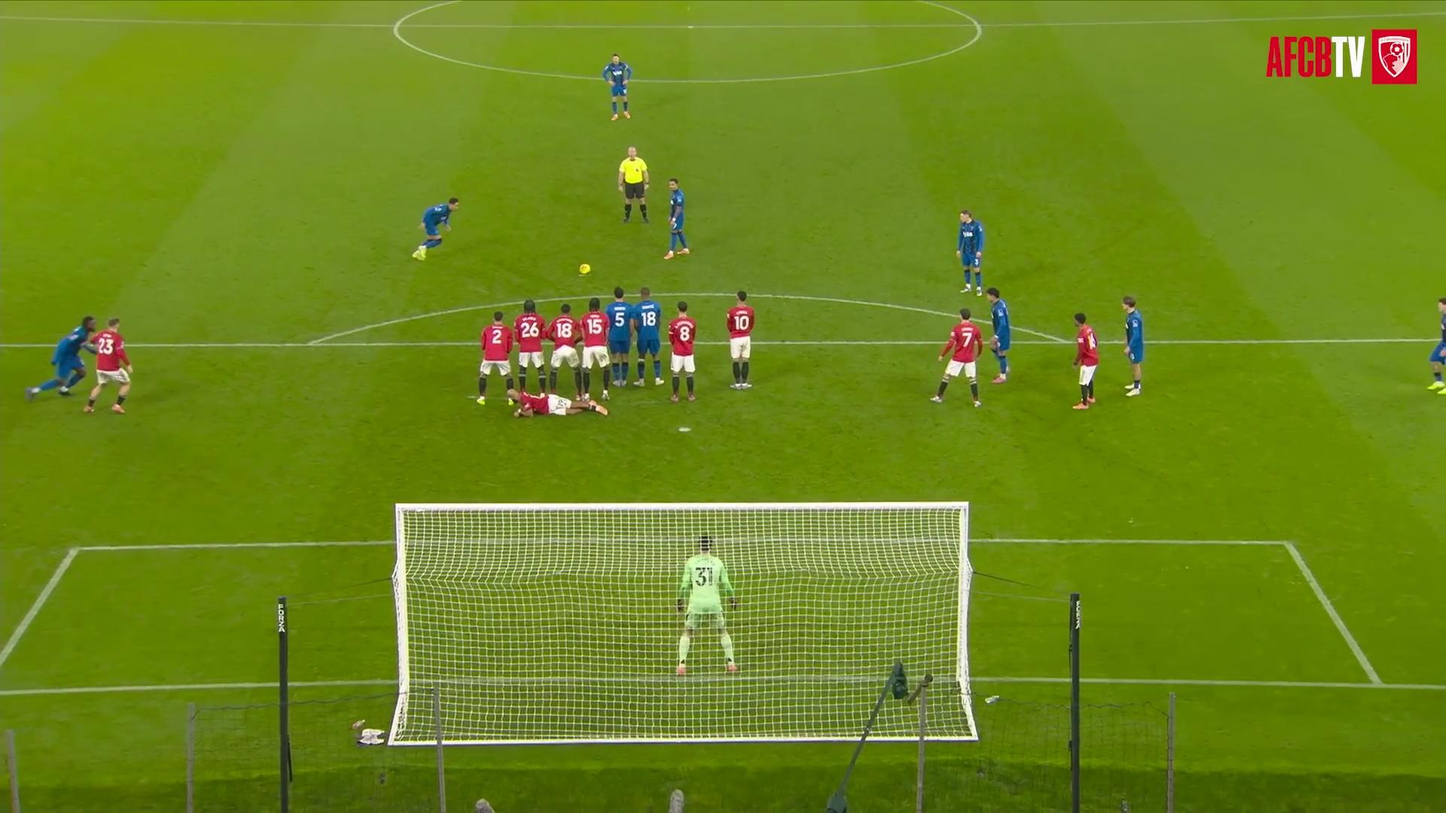football: (579, 263, 590, 273)
player: (676, 535, 737, 675), (25, 316, 96, 400), (931, 309, 981, 406), (84, 318, 133, 413), (477, 312, 514, 403), (546, 303, 581, 399), (514, 299, 547, 391), (633, 287, 663, 385), (412, 197, 458, 260), (581, 297, 609, 399), (605, 286, 633, 386), (668, 302, 696, 402), (727, 290, 755, 389), (508, 390, 608, 417), (1073, 313, 1098, 409), (956, 210, 984, 295), (986, 287, 1011, 382), (1122, 296, 1144, 396), (664, 178, 689, 258), (602, 53, 631, 120), (1429, 297, 1445, 394)
referee: (618, 147, 648, 223)
